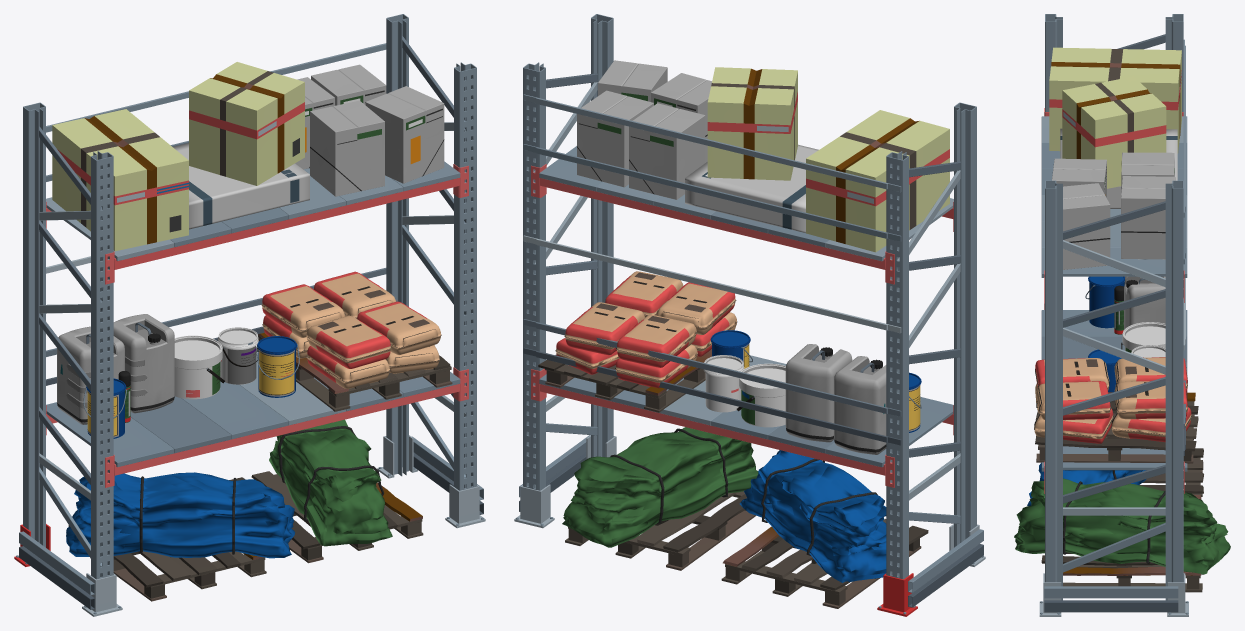
The model's file is SM_Aisle_White_C.fbx.
The picture shows the model from 3 angles, left to right: view 1: azimuth 30°, elevation 25°; view 2: azimuth 150°, elevation 25°; view 3: azimuth 270°, elevation 25°; orthographic projection. The views are drawn at different scales.
Parts seen in each view (by area): view 1: SM_Aisle_White_C; view 2: SM_Aisle_White_C; view 3: SM_Aisle_White_C.
Boxes of the visible parts, box(x1,y1,x2,y2) form: SM_Aisle_White_C: box(14, 14, 485, 616); SM_Aisle_White_C: box(514, 14, 985, 616); SM_Aisle_White_C: box(1014, 14, 1230, 616).
Bounding box in the file's own units: 336 × 373 × 171.
